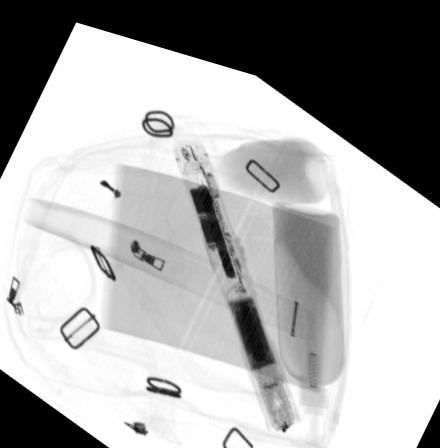Baton: (170, 126, 302, 419)
